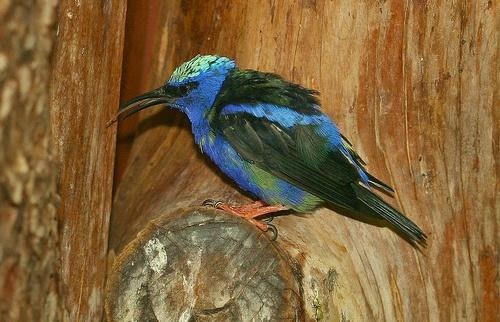bird: (104, 54, 429, 264)
